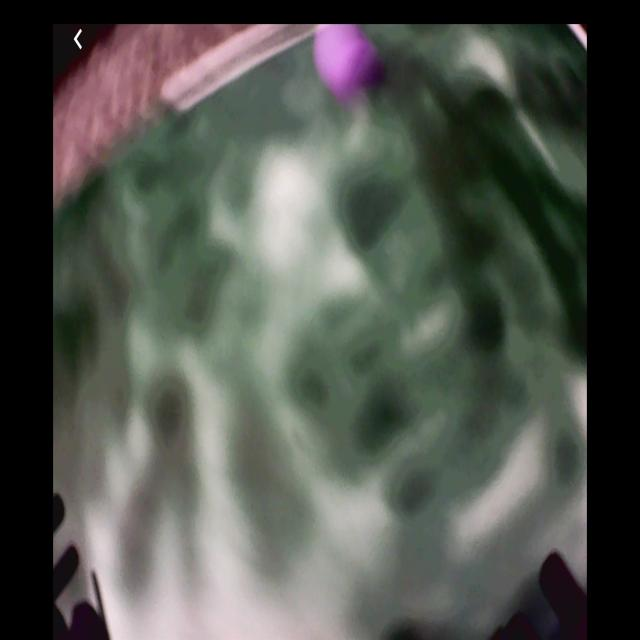ball: (313, 27, 378, 93)
